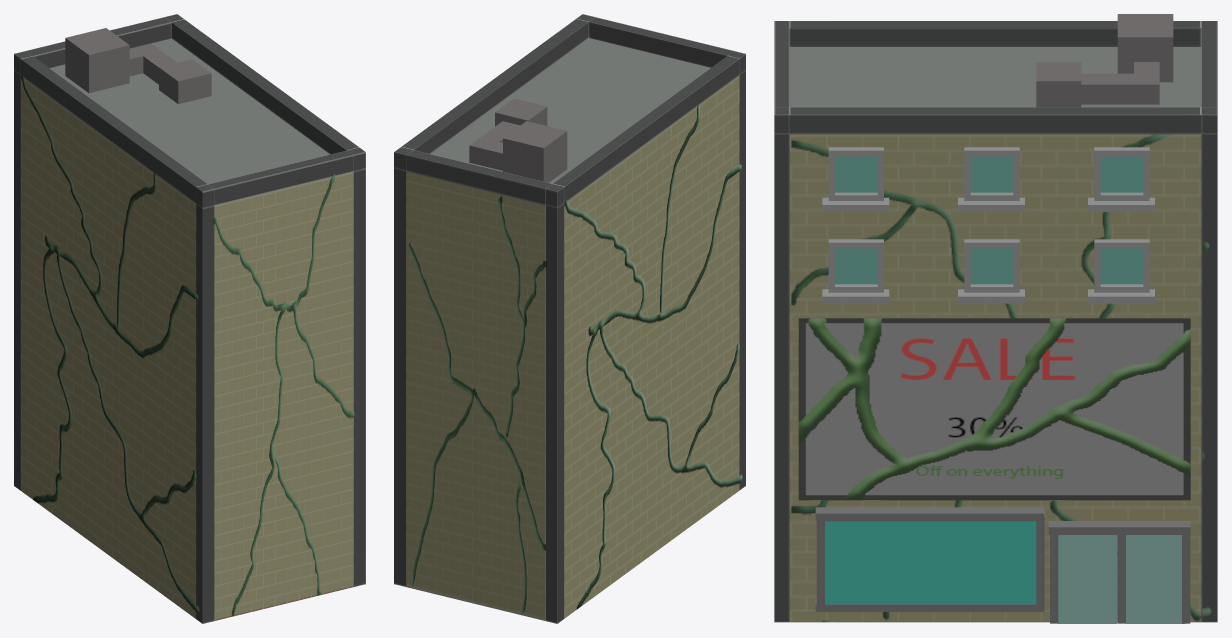
The model's file is Tallapartmentwithshopyellow.fbx.
The picture shows the model from 3 angles, left to right: view 1: azimuth 30°, elevation 25°; view 2: azimuth 150°, elevation 25°; view 3: azimuth 270°, elevation 25°; orthographic projection. The views are drawn at different scales.
Parts seen in each view (by area): view 1: polySurface250; view 2: polySurface250; view 3: polySurface250.
Boxes of the visible parts, x1,y1,x2,y2 form: polySurface250: (14, 14, 365, 623); polySurface250: (394, 14, 745, 623); polySurface250: (774, 14, 1217, 623).
Bounding box in the file's own units: 4.31 × 10.62 × 8.
